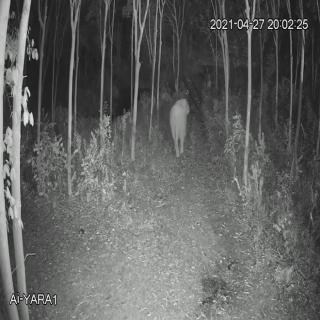Elephant: (164, 93, 197, 158)
